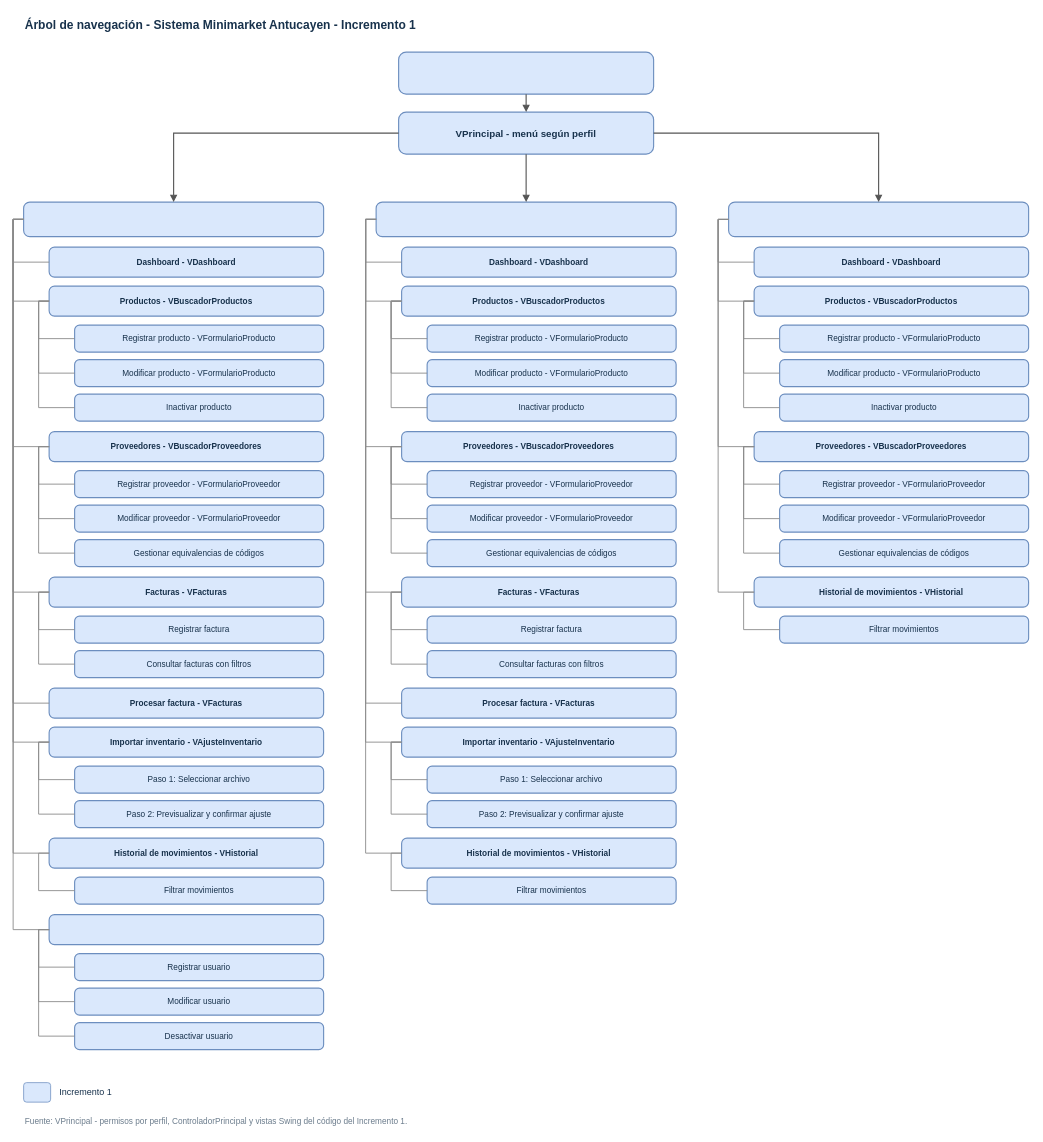
This 1043x1142 diagram has some shape labels left out. Here are the shapes that lost their labels. From the top down, the centre of each, then its label:
[526,72]: VLogin - inicio de sesión
[173,219]: Administrador
[525,219]: Bodeguero
[878,219]: Cajero
[186,929]: Usuarios y permisos - VGestionUsuarios
